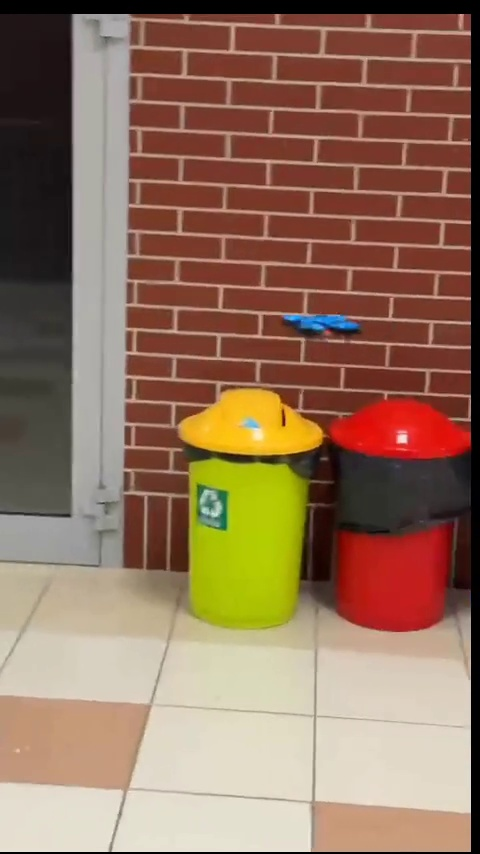drone: (280, 304, 365, 344)
